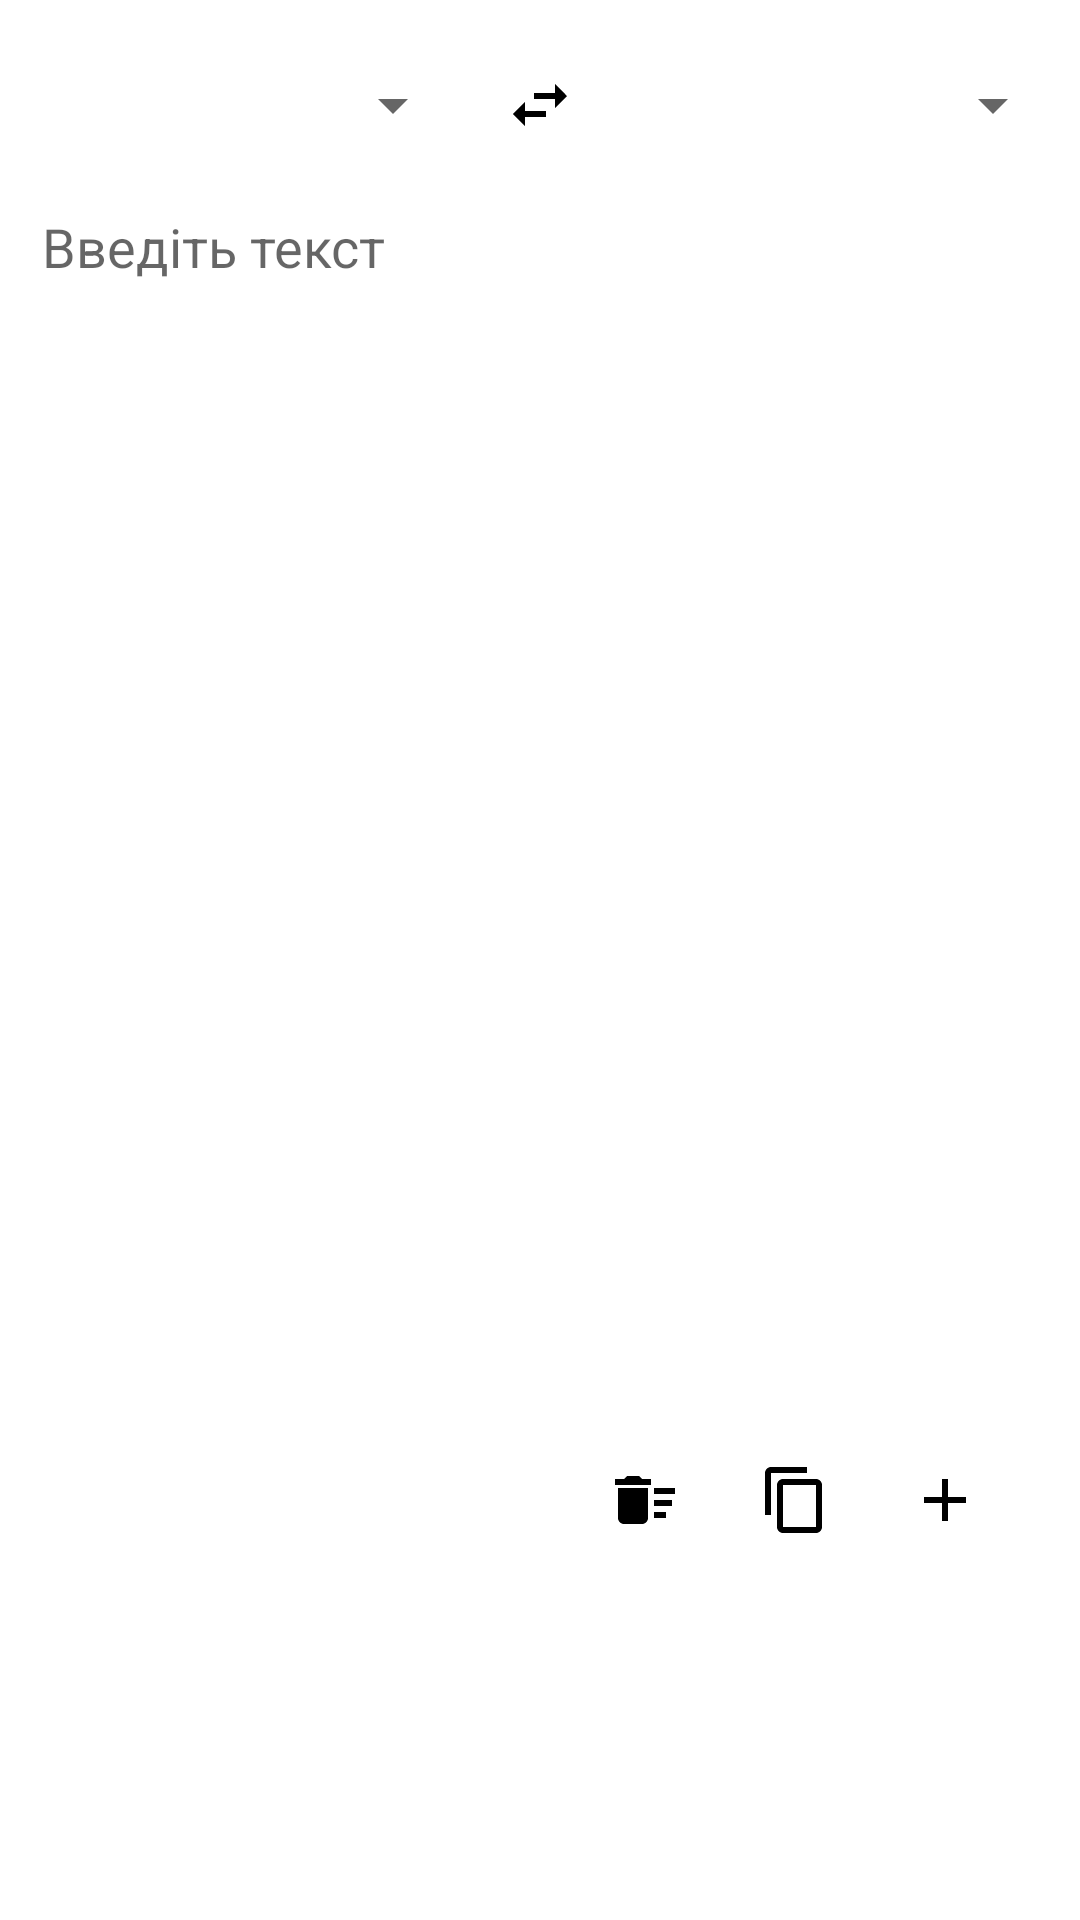

Screen size 1080w x 1920h. Icon name, then its center in pixels as (x=x, y=y):
add: (x=945, y=1500)
delete sweep: (x=645, y=1500)
swap horiz: (x=540, y=105)
